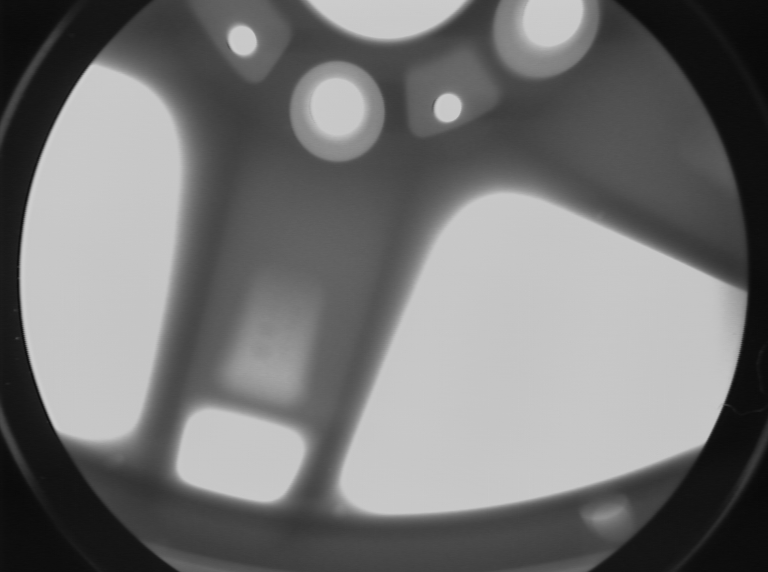defect: (103, 450, 128, 471)
